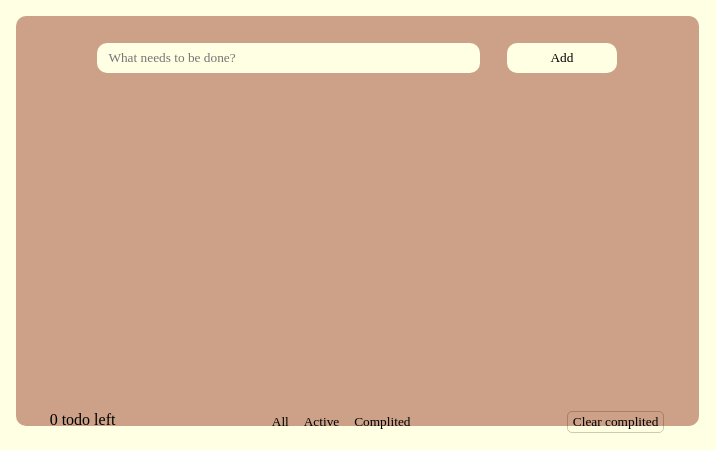
Test: renders the app and add a new task
Type "New task" into the field with placeholder "What needs to be done?". click: (289, 58)
box: [98,43,480,73]
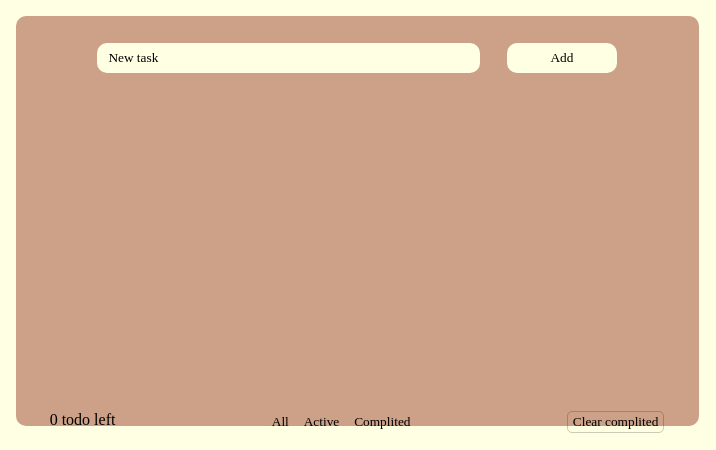
Click the button "Add". click: (562, 58)
box: [507,43,617,73]
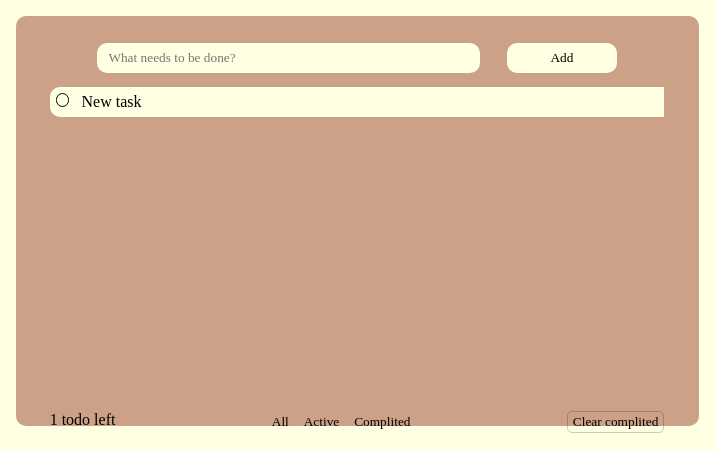
expect the text "New task" is shown: met, box [82,93,142,111]
